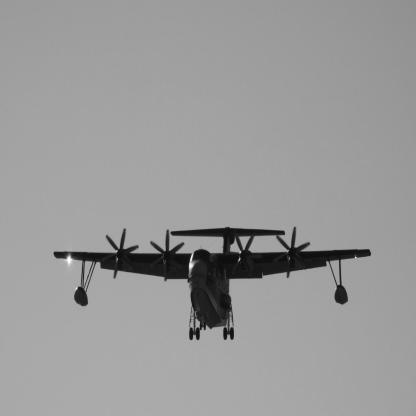US2: (54, 227, 373, 342)
